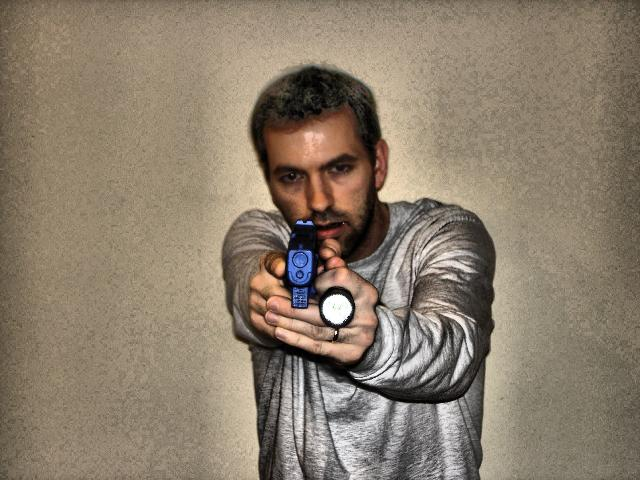pistol: (282, 215, 320, 308)
